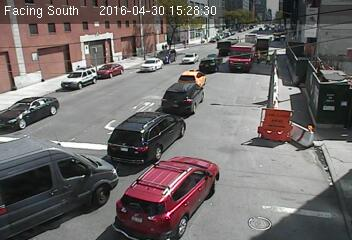neg: (66, 50, 98, 92), (91, 114, 116, 147), (226, 46, 244, 71), (157, 121, 174, 144), (228, 95, 245, 117), (181, 46, 198, 68), (307, 116, 322, 135), (254, 213, 265, 228)
